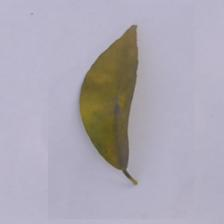greening: (70, 18, 166, 197)
